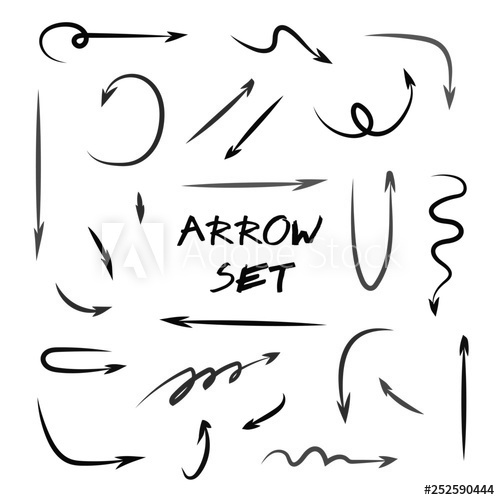arrow: (157, 310, 224, 335), (27, 190, 49, 261), (377, 169, 402, 229), (214, 76, 254, 110), (291, 37, 334, 66), (135, 26, 189, 49), (398, 67, 420, 122), (269, 175, 330, 194), (88, 245, 119, 281), (98, 70, 129, 106), (222, 128, 255, 160), (454, 333, 474, 385), (194, 419, 216, 466), (440, 63, 461, 112), (95, 453, 149, 472), (355, 451, 401, 472), (373, 377, 405, 406), (73, 298, 116, 319), (241, 410, 281, 432), (334, 380, 353, 426), (78, 361, 129, 377), (244, 351, 281, 371), (427, 282, 444, 318)
